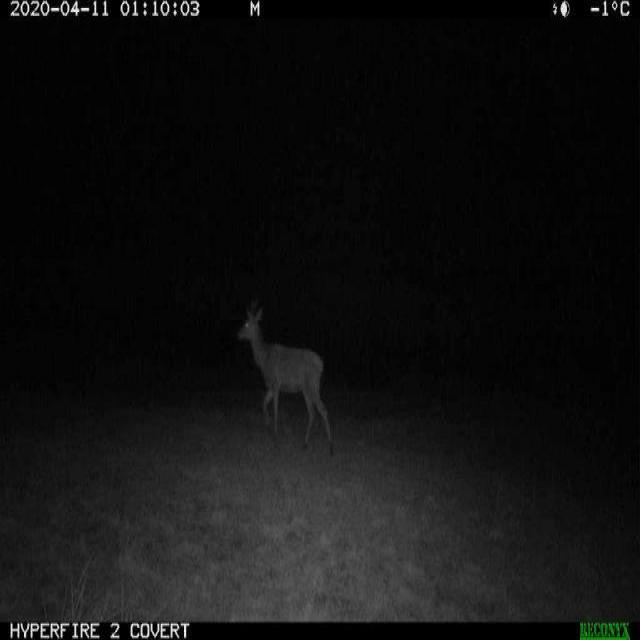deer: (225, 287, 338, 473)
